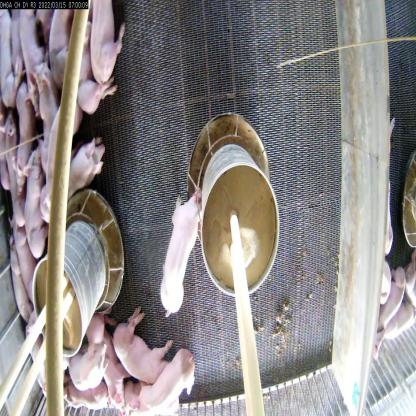Pig: (158, 178, 206, 320), (38, 133, 109, 227), (112, 301, 177, 390), (127, 342, 200, 415), (44, 80, 86, 202), (85, 302, 132, 408), (74, 11, 120, 118), (27, 54, 59, 171), (1, 110, 32, 229), (90, 0, 128, 90), (17, 5, 52, 94), (47, 3, 78, 91), (0, 5, 25, 106), (67, 341, 114, 393)
